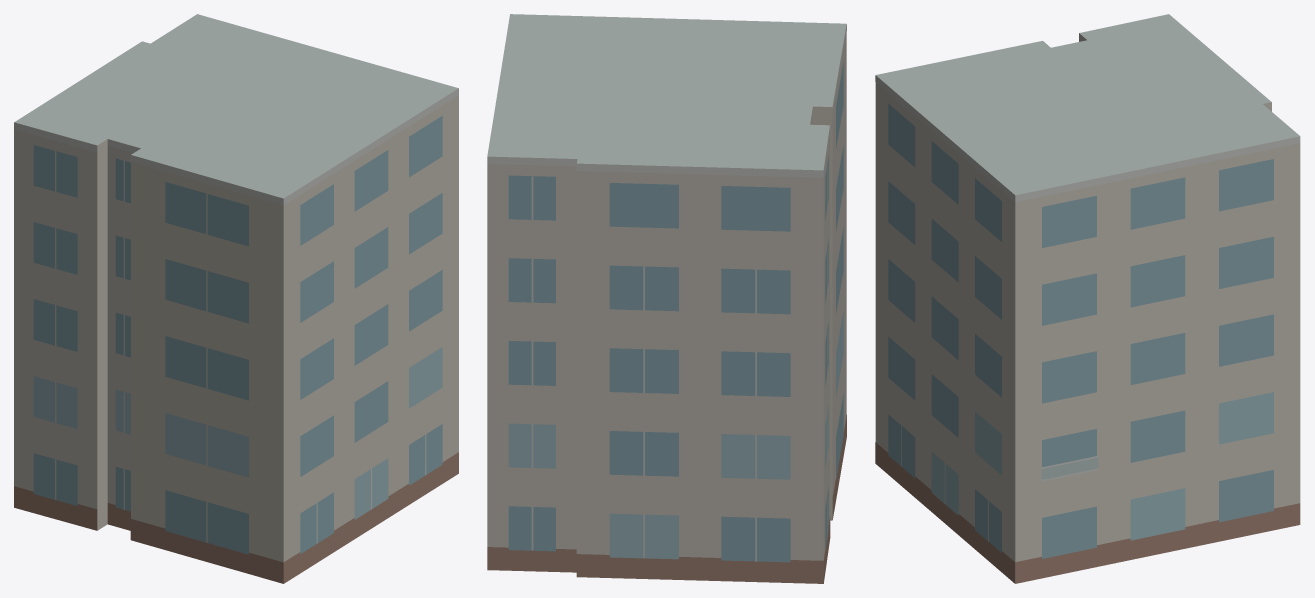
The model's file is survey-upis-32834811.glb.
3 renders of one model, left to right at view 1: azimuth 30°, elevation 25°; view 2: azimuth 150°, elevation 25°; view 3: azimuth 270°, elevation 25°, orthographic. The views are drawn at different scales.
Visible parts, largest first — view 1: survey-upis-32834811.tmp; view 2: survey-upis-32834811.tmp; view 3: survey-upis-32834811.tmp.
Boxes of the visible parts, bbox=[...] form: survey-upis-32834811.tmp: bbox=[14, 14, 458, 583]; survey-upis-32834811.tmp: bbox=[487, 14, 846, 583]; survey-upis-32834811.tmp: bbox=[875, 14, 1300, 583].
Size of the model in its own units: 13.72 by 13.7 by 13.59.
